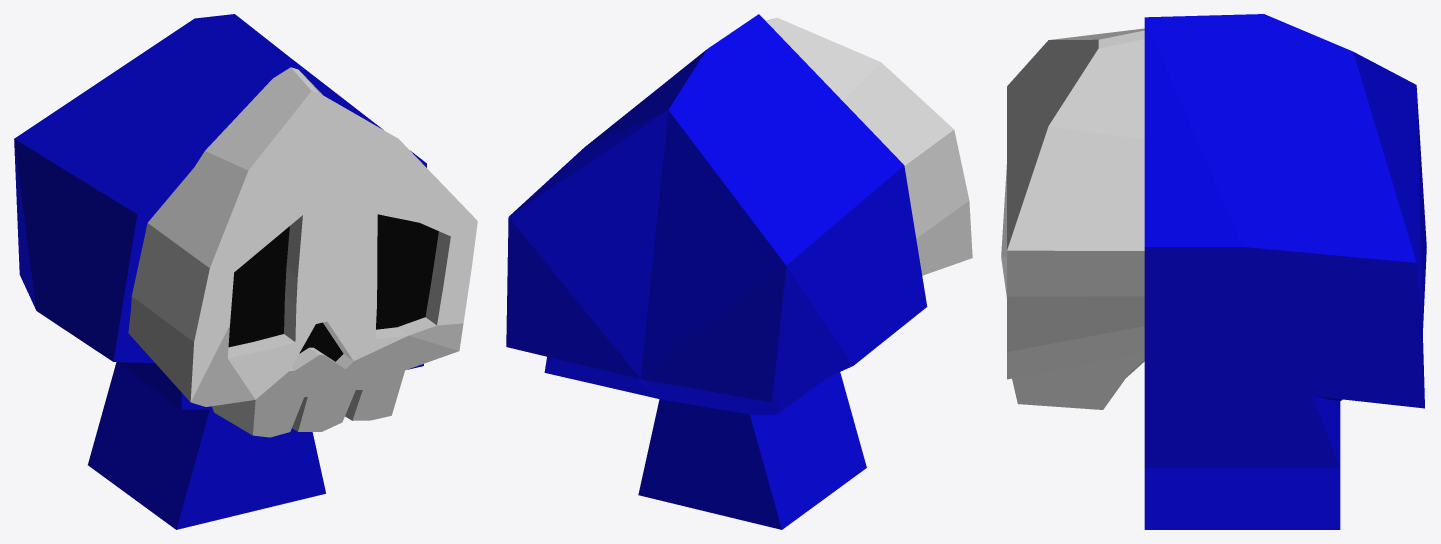
The model's file is lpm_blue.fbx.
3 views of the same model, side by side, from view 1: azimuth 30°, elevation 25°; view 2: azimuth 150°, elevation 25°; view 3: azimuth 270°, elevation 25° (orthographic). The views are drawn at different scales.
Parts seen in each view (by area): view 1: Head, Body; view 2: Body, Head; view 3: Body, Head.
Boxes of the visible parts, x1,y1,x2,y2 form: Head: (128, 67, 477, 437); Body: (14, 14, 426, 529); Body: (506, 14, 927, 529); Head: (766, 17, 972, 275); Body: (1144, 14, 1426, 529); Head: (1001, 28, 1144, 409).
Size of the model in its own units: 409 by 559 by 435.
